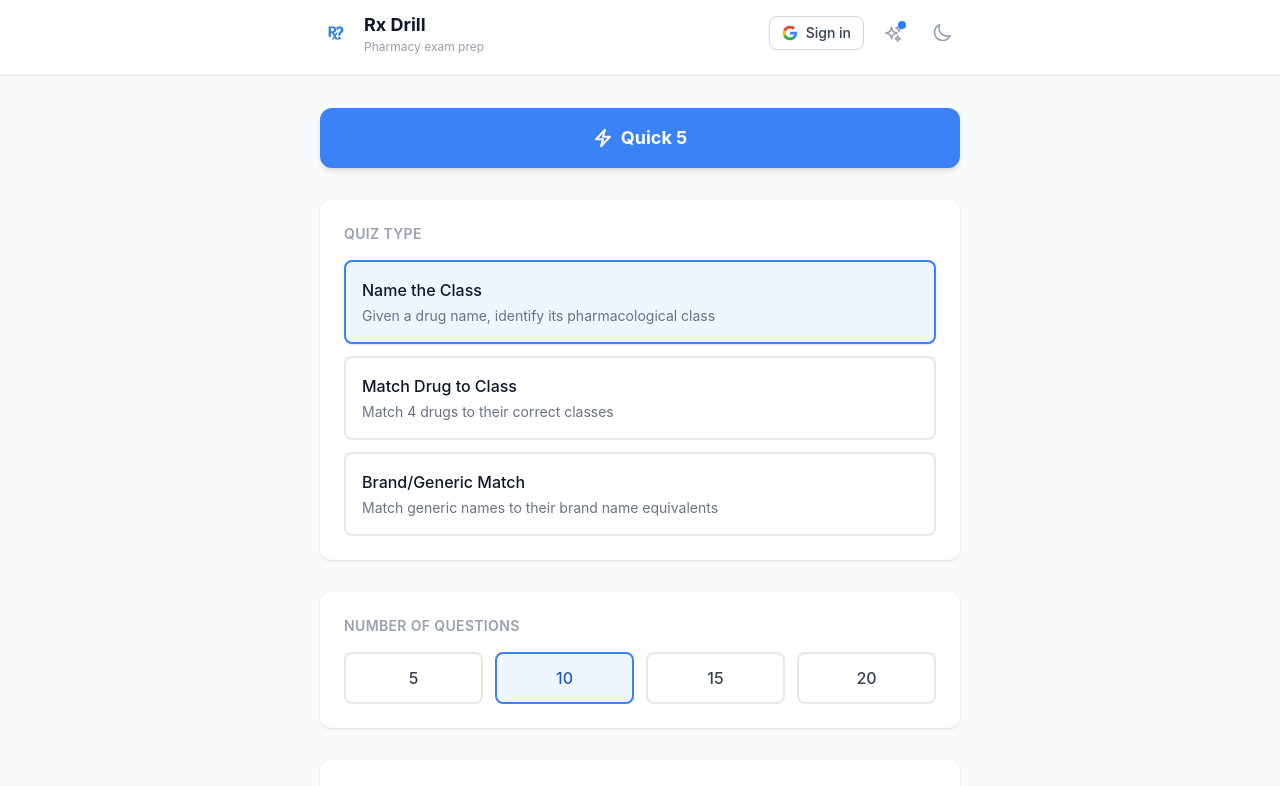
Test: App › renders matching quiz for match-drug-to-class type
Note: Select Match Drug to Class
Click the text "Match Drug to Class": coordinates (440, 386) [362,376,517,396]
(page scrolled)
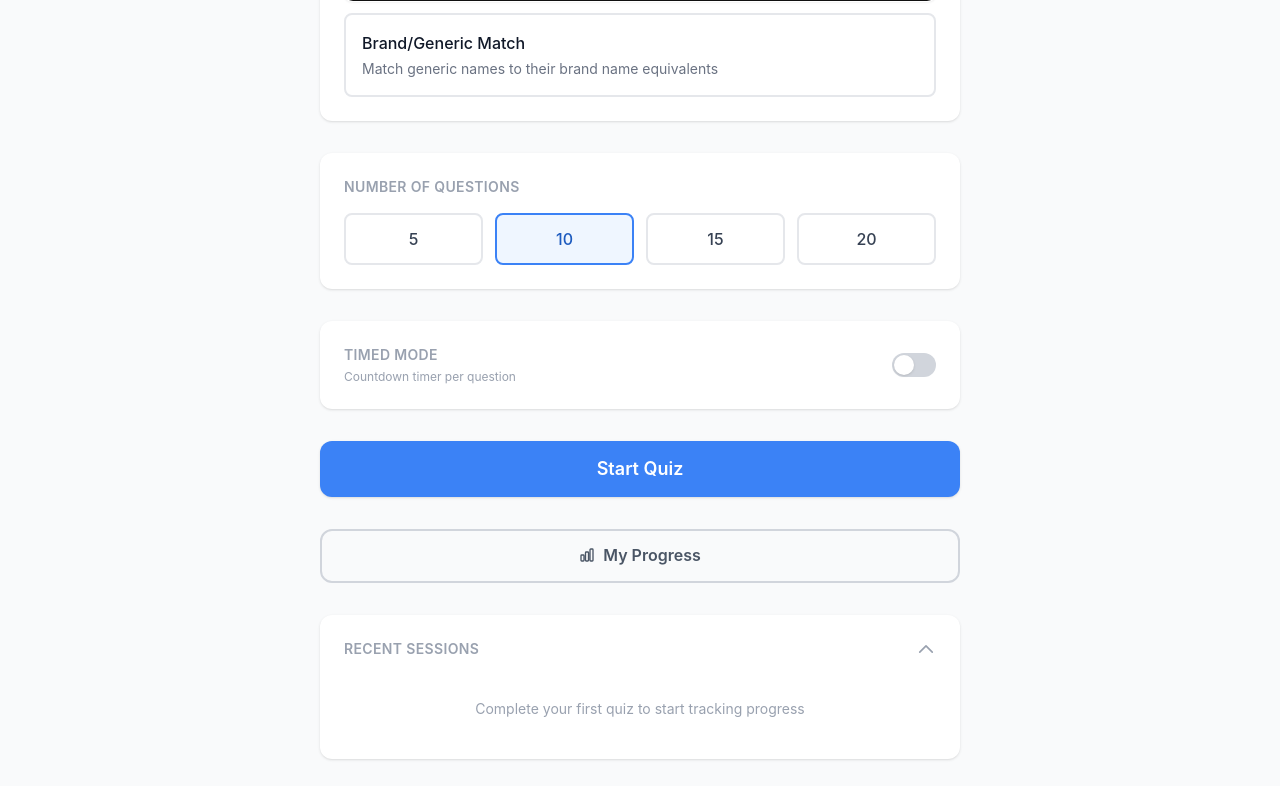
Click the button "Start Quiz": coordinates (640, 469) [320,441,960,497]
(page scrolled)
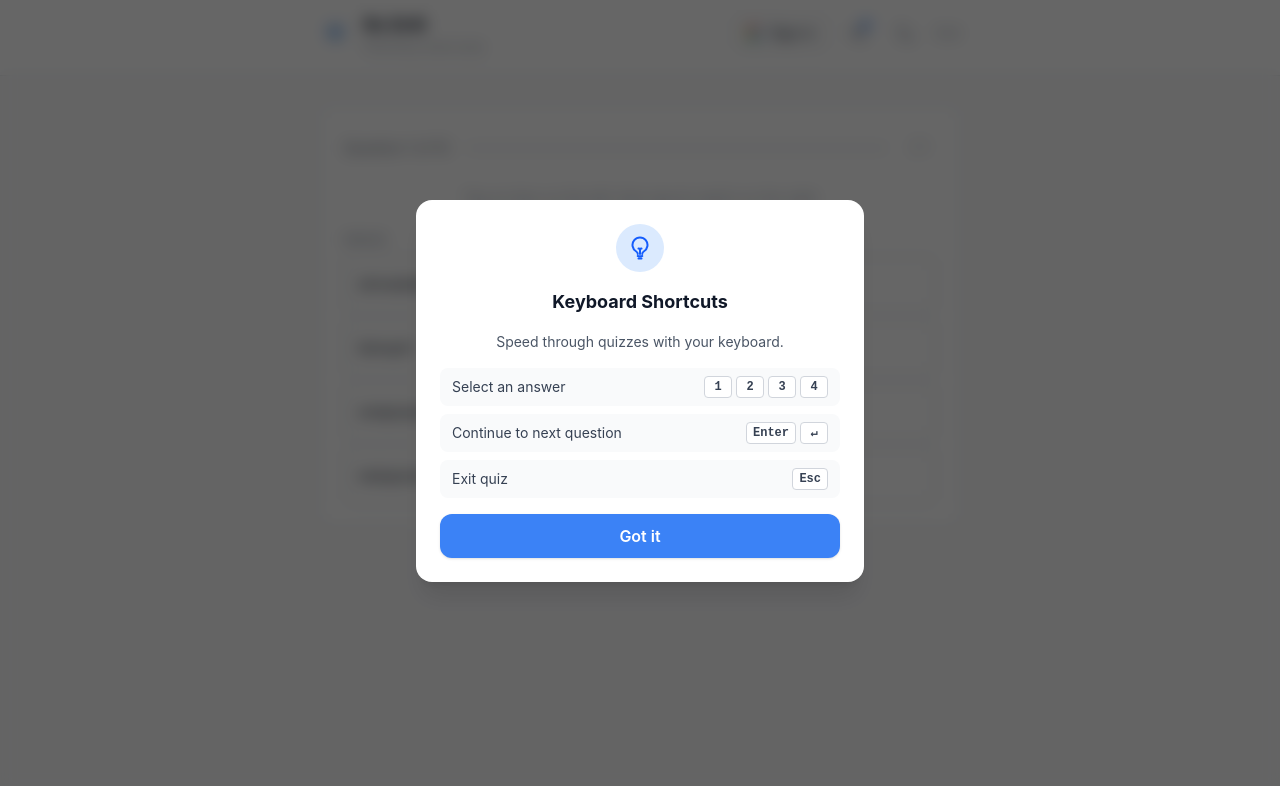
Expected: the text "Classes" is shown, [648,232,703,247]
Expected: the text "simvastatin" is shown, [358,275,433,292]
